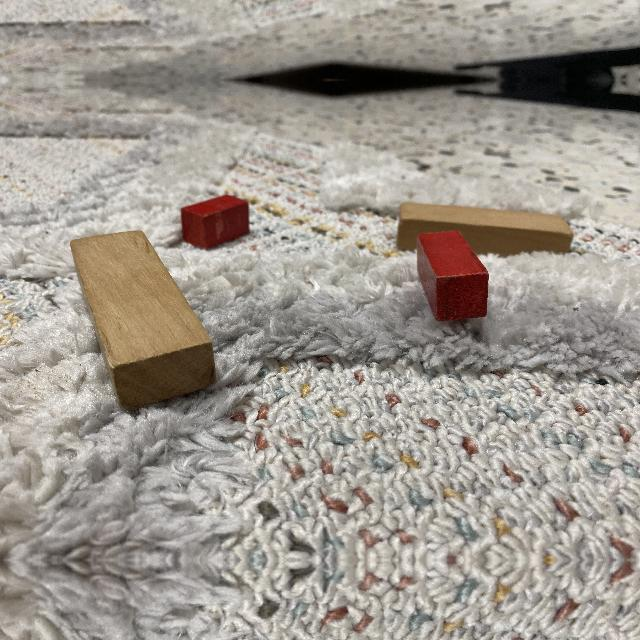jenga: (69, 230, 216, 412), (397, 203, 575, 257)
red block: (414, 230, 490, 324), (180, 195, 252, 252)
